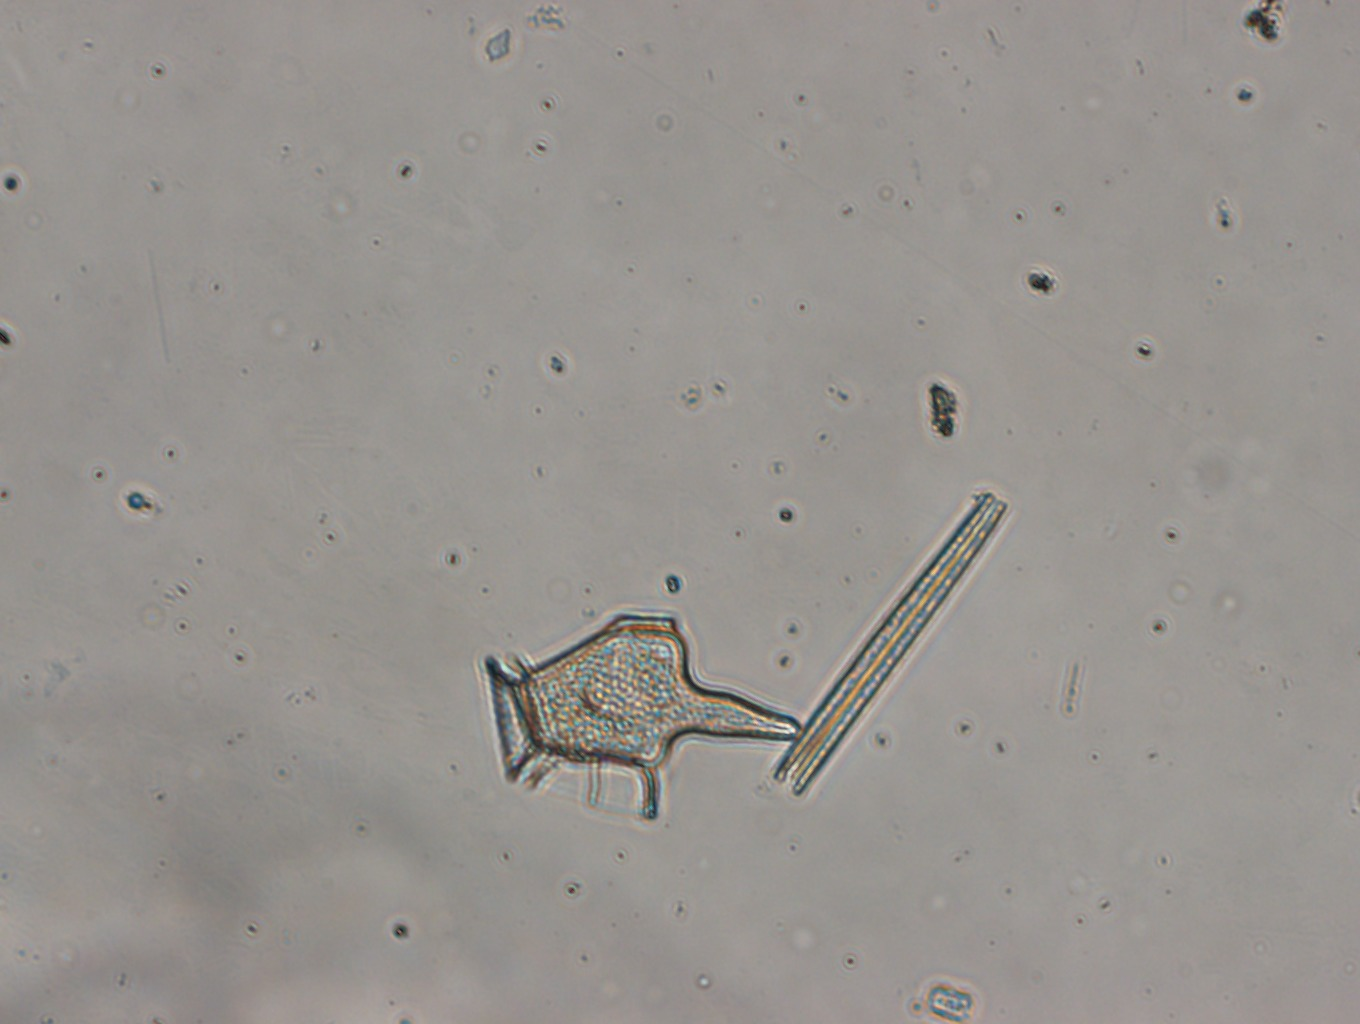dinophysis caudata: (461, 603, 807, 819)
